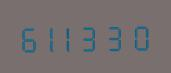one: (39, 20, 60, 53), (62, 20, 83, 53)
six: (17, 21, 38, 53)
three: (106, 19, 127, 52), (84, 20, 105, 52)
zero: (128, 19, 149, 51)
